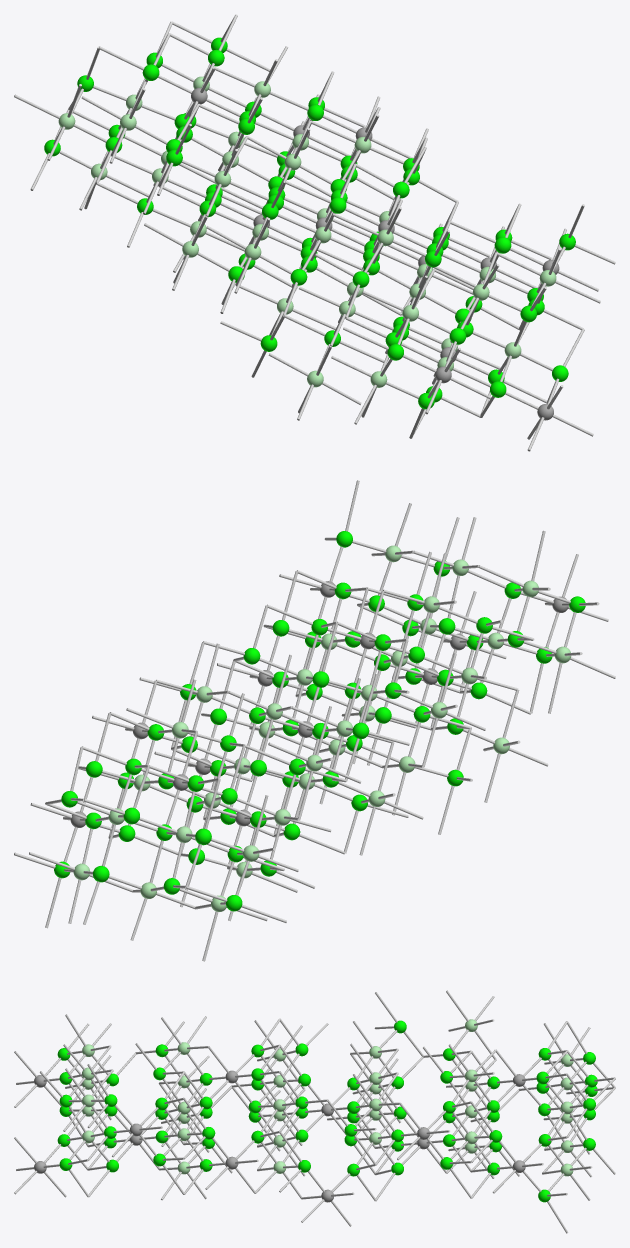
File: structure_mpstyle.glb
3 renders of one model, top to bottom at view 1: azimuth 30°, elevation 25°; view 2: azimuth 150°, elevation 25°; view 3: azimuth 270°, elevation 25°, orthographic. The views are drawn at different scales.
Parts seen in each view (by area): view 1: world; view 2: world; view 3: world.
Part boxes in pixels (box(x1,y1,x2,y2)): world: box(14, 14, 615, 451); world: box(14, 480, 615, 961); world: box(14, 990, 615, 1233).
Size of the model in its own units: 15.3 by 11.66 by 37.6.
